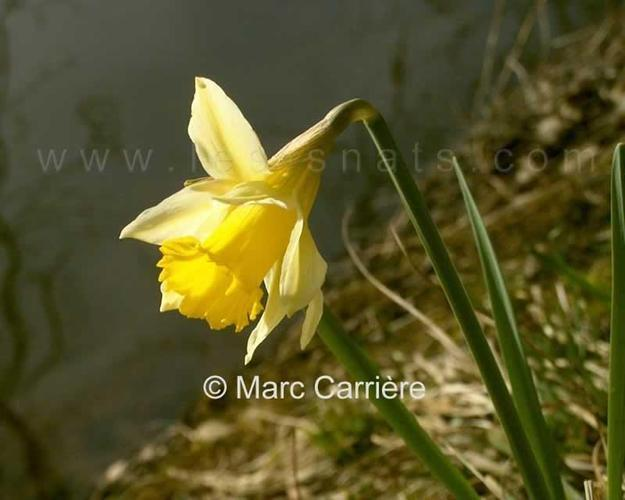flower1: (118, 75, 330, 366)
